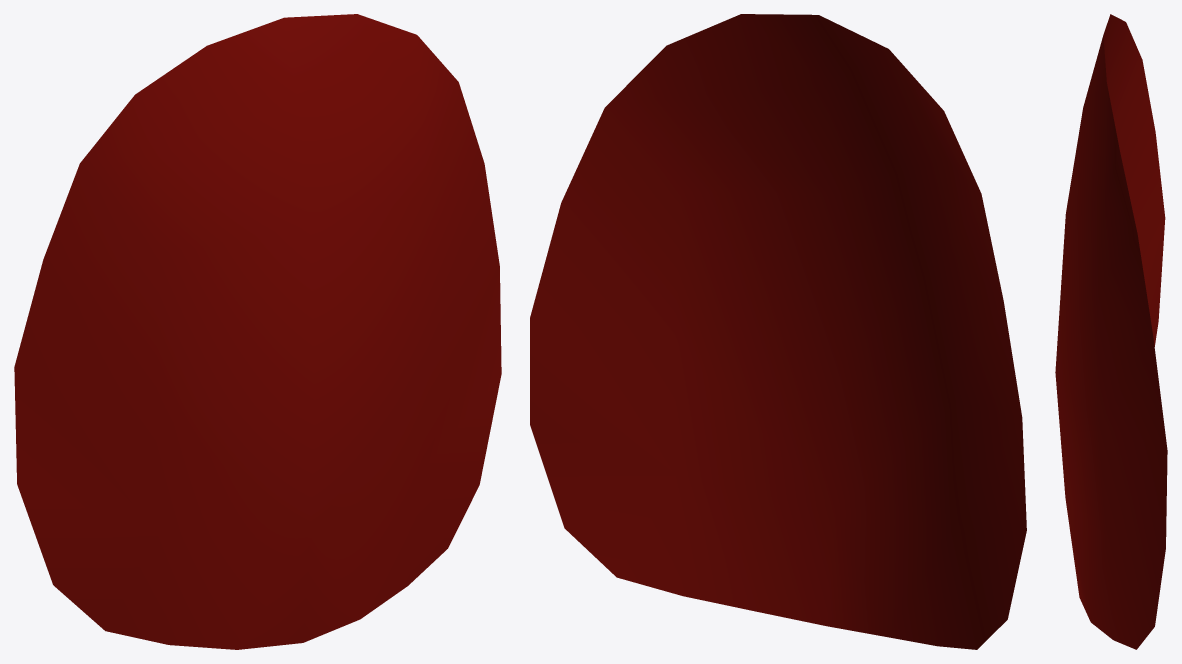
File: MD_nail_natural_HandR.Thumb.fbx
The picture shows the model from 3 angles, left to right: view 1: azimuth 30°, elevation 25°; view 2: azimuth 150°, elevation 25°; view 3: azimuth 270°, elevation 25°; orthographic projection. The views are drawn at different scales.
Parts seen in each view (by area): view 1: MD_nail_natural_HandR.Thumb; view 2: MD_nail_natural_HandR.Thumb; view 3: MD_nail_natural_HandR.Thumb.
Boxes of the visible parts, left/top/right/bottom form: MD_nail_natural_HandR.Thumb: left=14, top=14, right=501, bottom=649; MD_nail_natural_HandR.Thumb: left=530, top=14, right=1026, bottom=649; MD_nail_natural_HandR.Thumb: left=1055, top=14, right=1167, bottom=649.
Size of the model in its own units: 0.8963 by 1.08 by 0.1962.
